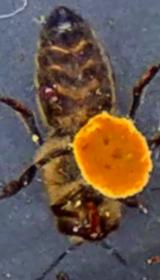varroa_mite: (33, 70, 66, 108)
